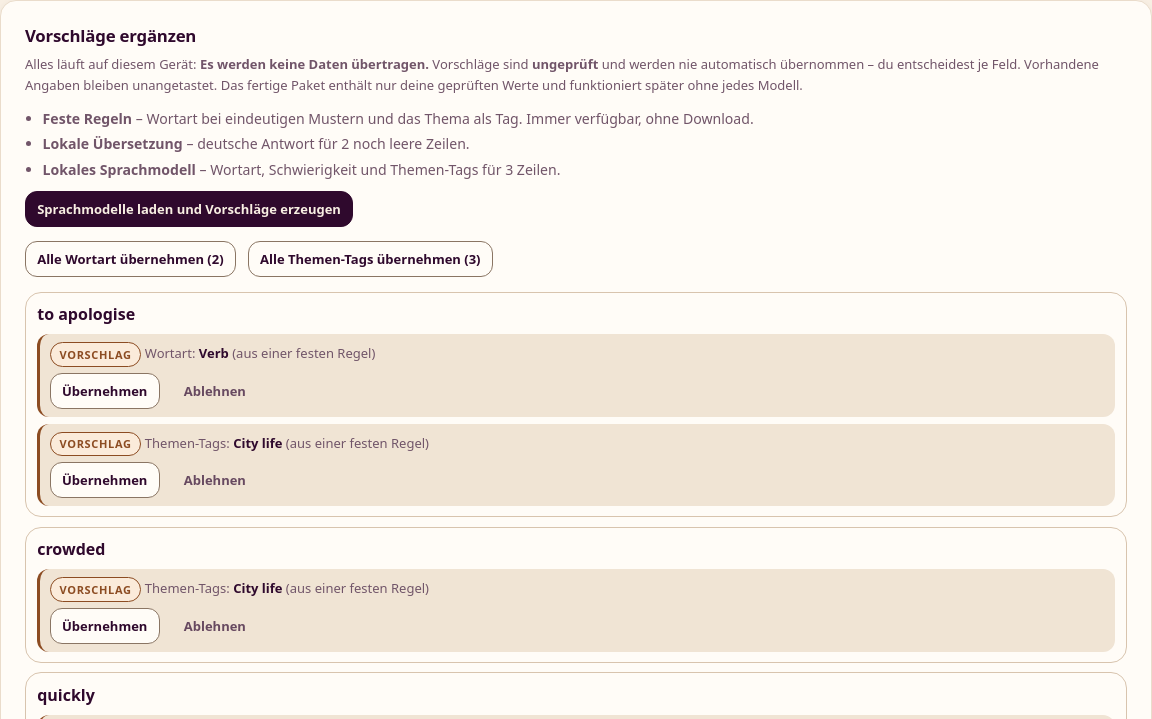
Test: Mit lokalen Anbietern › lässt einen Zeilenfehler die übrigen Zeilen nicht verwerfen
Click the button "Sprachmodelle laden und Vorschläge erzeugen" at {"x": 189, "y": 209}, box [25,191,353,227]
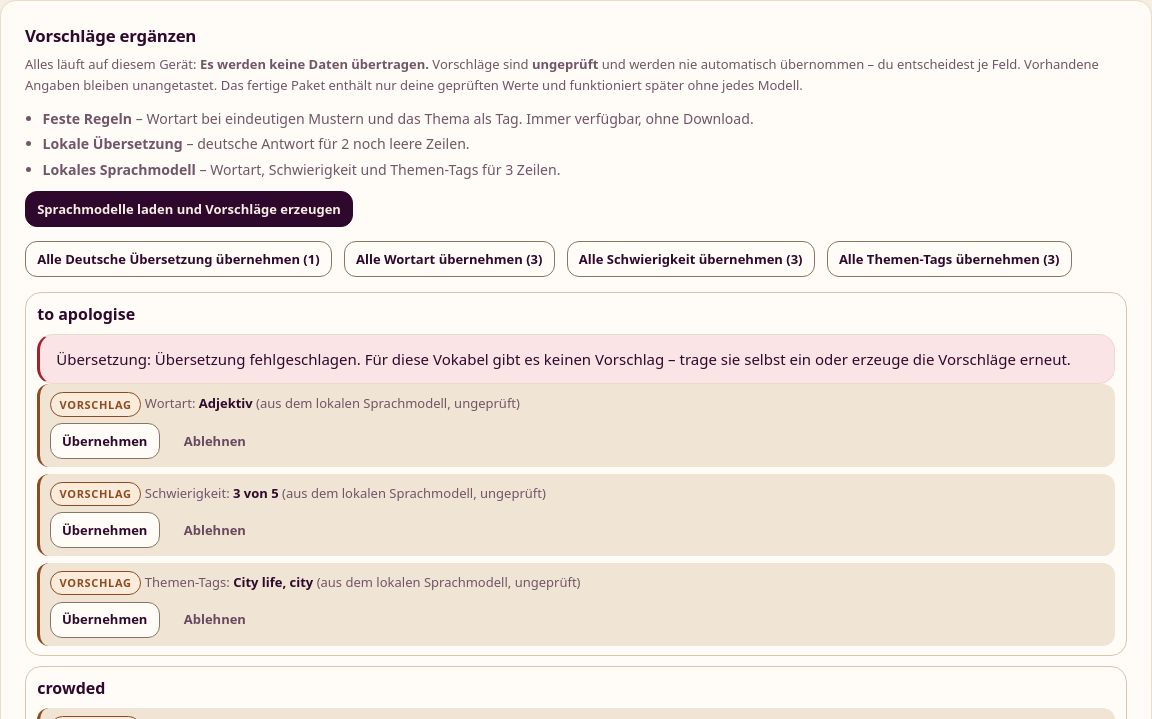
Expected: the message shows "Übersetzung fehlgeschlagen", [56,350,361,370]
